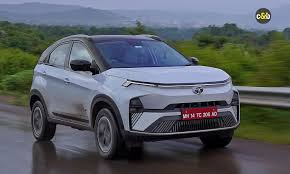Tata Nexon: (30, 33, 241, 159)
